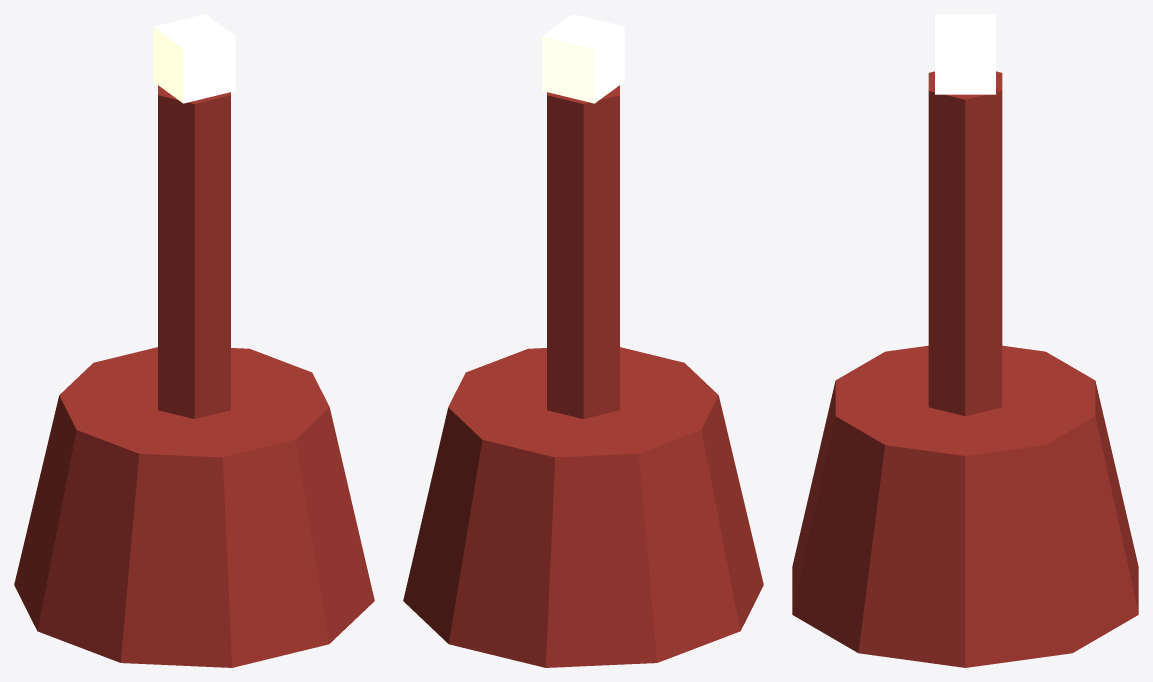
Rendered from buoy.glb.
3 views of the same model, side by side, from view 1: azimuth 30°, elevation 25°; view 2: azimuth 150°, elevation 25°; view 3: azimuth 270°, elevation 25° (orthographic).
Visible parts, largest first — view 1: buoy_Body; view 2: buoy_Body; view 3: buoy_Body.
Part boxes in pixels (<box>): buoy_Body: <box>14,14,374,667</box>; buoy_Body: <box>403,14,763,667</box>; buoy_Body: <box>792,14,1138,667</box>.
Size of the model in its own units: 1.2 by 2.05 by 1.14.
